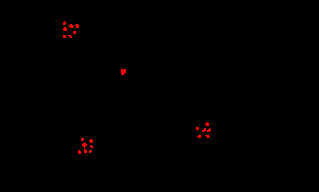Target: (121, 69, 126, 75), (82, 143, 87, 148), (69, 24, 74, 28), (75, 24, 79, 28), (63, 27, 67, 31), (205, 122, 209, 126), (202, 128, 206, 132), (207, 128, 211, 132), (89, 139, 93, 143), (205, 135, 210, 138), (63, 21, 66, 25), (68, 35, 72, 38), (197, 135, 201, 138), (84, 149, 87, 153), (78, 150, 81, 154), (73, 31, 76, 34), (63, 35, 66, 38), (196, 127, 199, 130), (81, 138, 84, 141), (90, 145, 93, 148), (89, 150, 92, 153)
